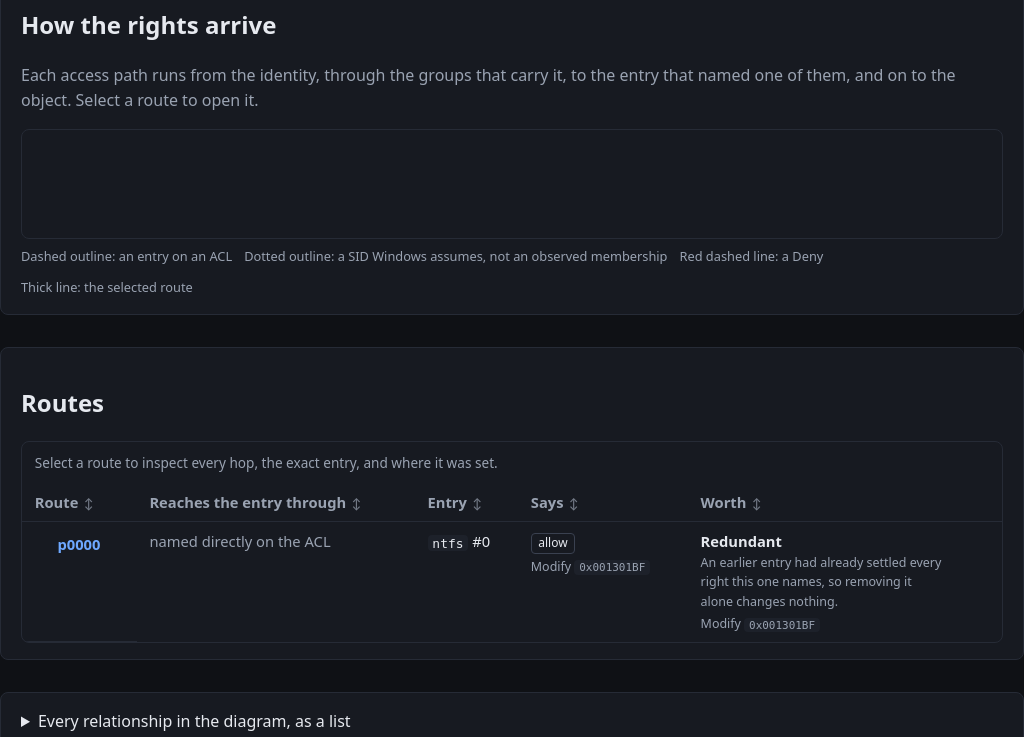
it: the routes › says whether the route contributed to the final answer
What coordinates should you click on to do the following:
click the button "p0000"
I would click on:
 (71, 544)
Its box is x1=35 y1=530 x2=107 y2=558.
(page scrolled)
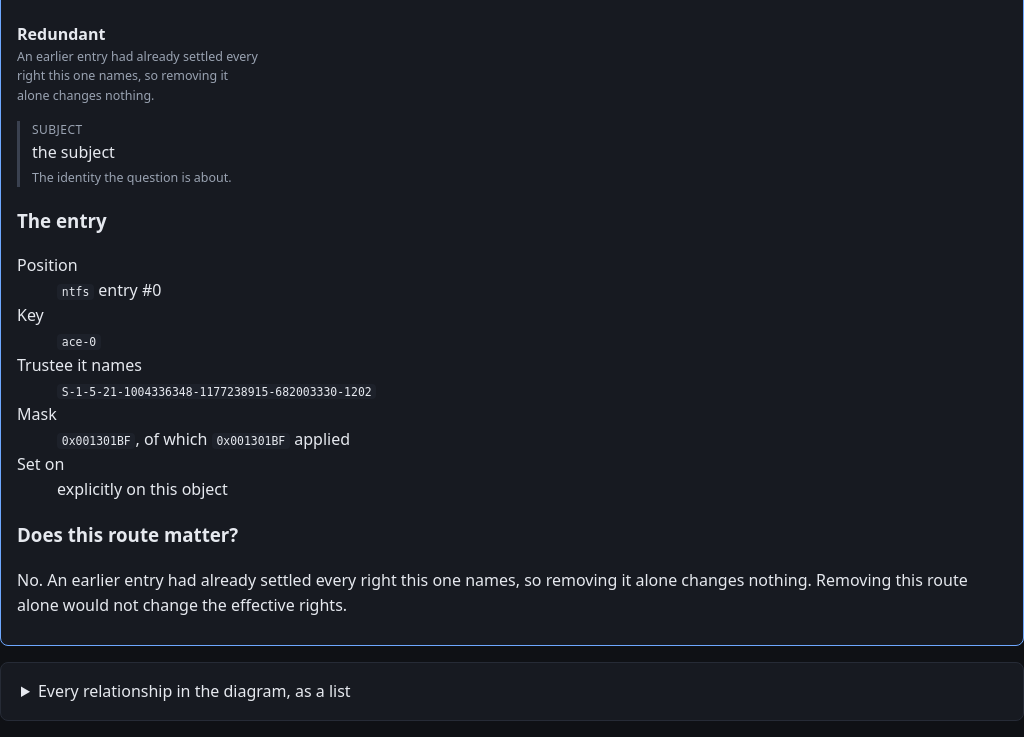
Expected: the text "Removing this route alone would not change" is shown, x1=17 y1=569 x2=968 y2=616
